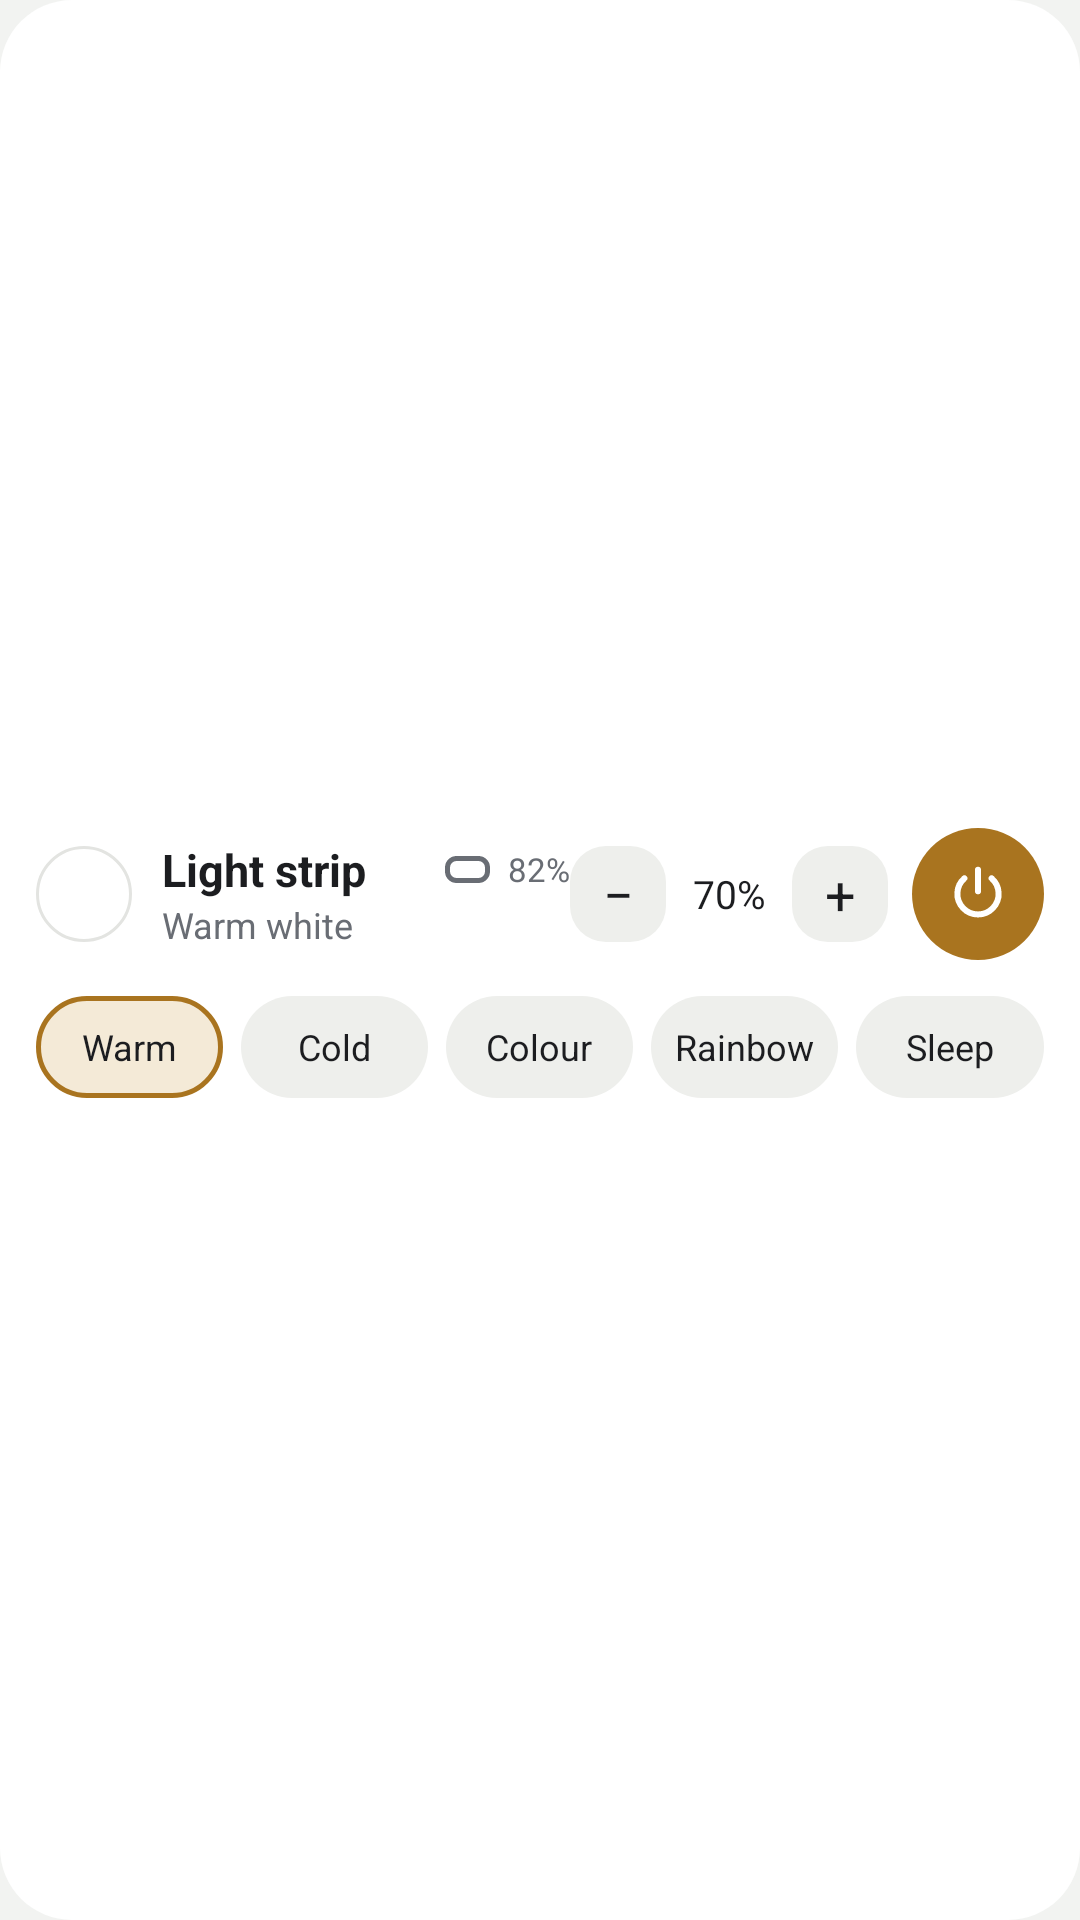

Screen size 1080px x 1920px. Icon name, then its box in pixels as (x1, y1, x2, y2):
Power: (912, 828, 1044, 960)
